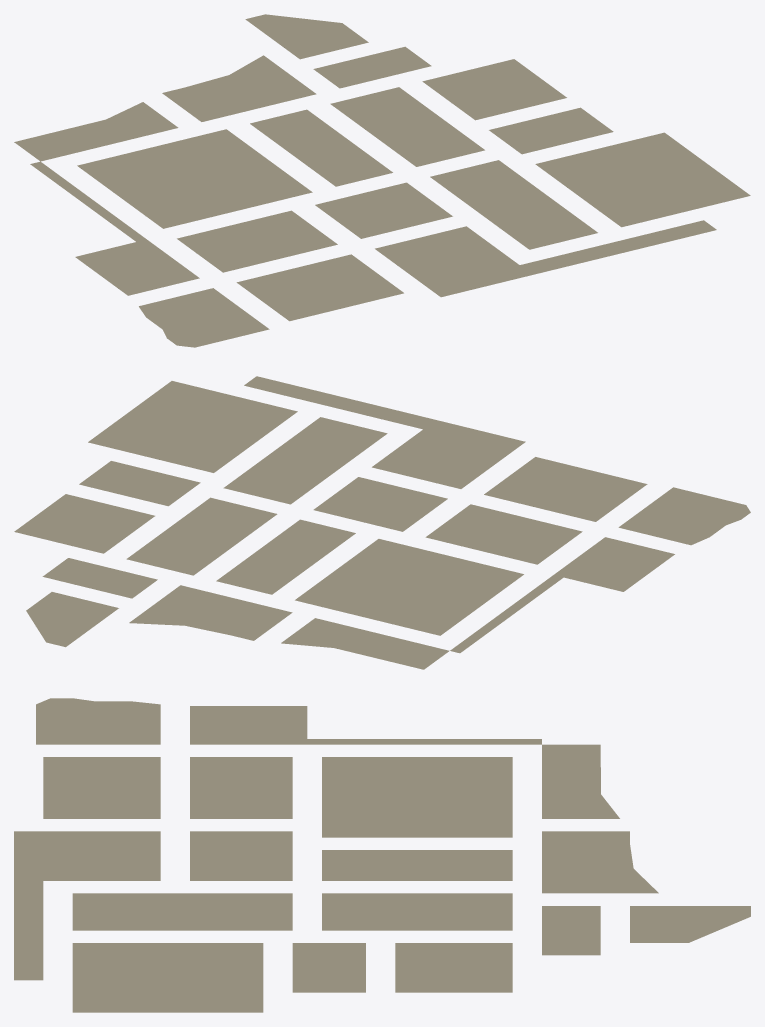
File: STREETS.glb
The picture shows the model from 3 angles, top to bottom: view 1: azimuth 30°, elevation 25°; view 2: azimuth 150°, elevation 25°; view 3: azimuth 270°, elevation 25°; orthographic projection. The views are drawn at different scales.
Visible parts, largest first — view 1: sidewalks-col; view 2: sidewalks-col; view 3: sidewalks-col.
Boxes of the visible parts, x1,y1,x2,y2 form: sidewalks-col: (14,14,750,347); sidewalks-col: (14,376,750,669); sidewalks-col: (14,698,750,1012).
Size of the model in its own units: 1624 by 0.0075 by 1608.
